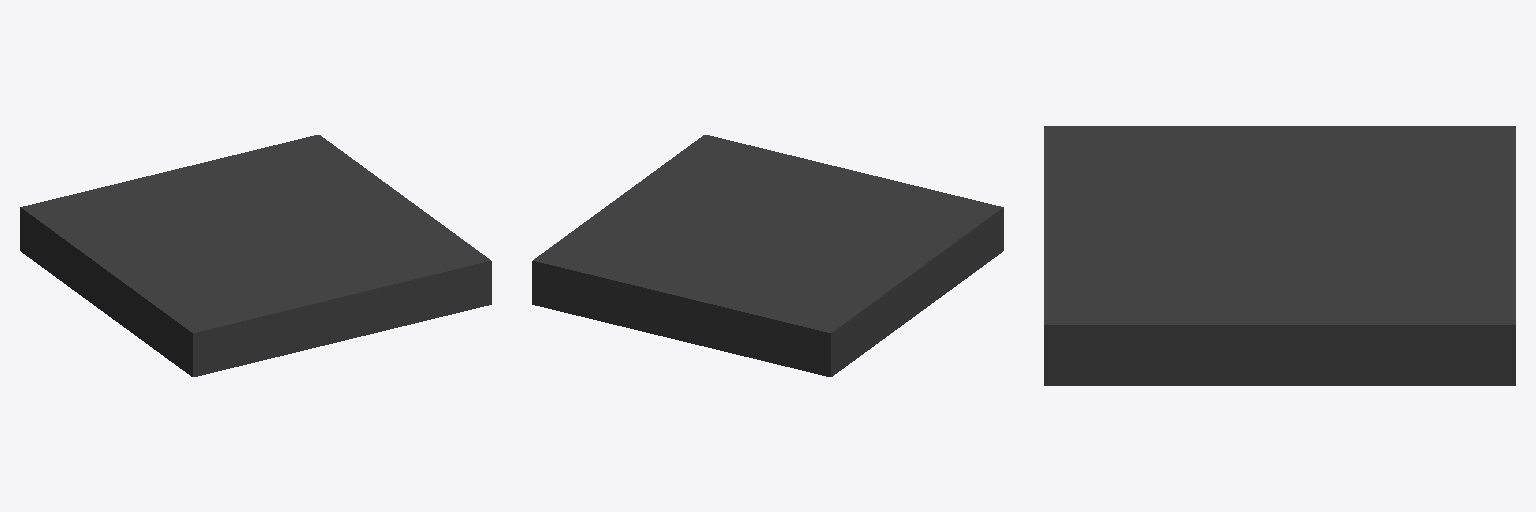
robot.urdf — x500:
<?xml version="1.0" ?>

<!-- Holybro PX4 Development Kit X500 V2 for gym-pybullet-drones, in the format of the package's
     assets/cf2x.urdf (BaseAviary._parseURDFParameters reads the <properties> attributes, the base
     link's mass and inertia, and the base link's collision cylinder; the four propeller links carry
     the thrust points). Loaded by sim/run_leanfc.py (LeanfcAviary), not installed in the package.

     Sources: PX4-gazebo-models x500_base/model.sdf and x500/model.sdf.
       mass       base_link 2.0 + rotor_0..3 at 0.016076923076923075 each = 2.0643076923076924 kg
                  (one rigid body here: the rotors' mass is lumped into the base)
       inertia    base_link ixx = iyy = 0.02166666666666667, izz = 0.04000000000000001 kg m^2
                  (the rotors' share, about 0.002 kg m^2 per axis at 0.174 m, is left out, as in the
                  controller's parameter file)
       rotors     poses (+-0.174, +-0.174, 0.06) m FLU, arm = 0.174 sqrt 2 = 0.24607 m;
                  rotor_0 front right ccw, rotor_1 rear left ccw, rotor_2 front left cw,
                  rotor_3 rear right cw (gz MulticopterMotorModel turningDirection)
       thrust     motorConstant 8.54858e-06 N/(rad/s)^2, maxRotVelocity 1000 rad/s
       yaw torque momentConstant 0.016 m x thrust
     Package units: kf in N/RPM^2 and km in N m/RPM^2:
       kf = 8.54858e-06 (2 pi / 60)^2 = 9.37456697678494e-08,  km = 0.016 kf = 1.4999307162855904e-09.
     thrust2weight = 4 x 8.54858 N / (2.0643076923076924 kg x 9.80665 m/s^2) = 1.689113625148385, so that
       the package's MAX_RPM = sqrt(thrust2weight m g / (4 kf)) = 9549.2966 RPM = 1000 rad/s with the
       harness's gravity 9.80665, and MAX_THRUST / 4 = 8.54858 N per motor.
     Propeller links: in cf2x.urdf's order and spin (prop0 front right CCW, prop1 rear right CW,
       prop2 rear left CCW, prop3 front left CW; the package's _physics sums the drag torques as
       -t0 + t1 - t2 + t3, so links 0 and 2 must be the CCW ones). PX4's rotor_0..3 are links 0, 2, 3, 1,
       which is cpp2lean's SLOT_TO_SIM = [0, 2, 3, 1] for motors 1..4. The thrust is applied at each
       link's inertial origin (PyBullet's link frame), 0.06 m above the base as in the SDF.
     Collision: one cylinder (the package's parser requires a cylinder) of radius 0.25 m (wheelbase
       0.49 m) and length 0.22 m centered 0.09 m below the base origin: from 0.20 m below (the SDF's
       landing gear reaches 0.227 m below) to 0.02 m above the base. At 1 m altitude its bottom is 0.80 m
       above the ground.
     Not modeled: rotor drag (rotorDragCoefficient 8.06428e-05 N/(m/s)/(rad/s), the same form as the
       package's drag_coeff_xy, which Physics.PYB does not use; set here for Physics.PYB_DRAG), the
       rolling moment, ground effect and downwash (no X500 data: coefficients 0), and the motor time
       constants 0.0125 s up and 0.025 s down, which the harness applies as a thrust lag.
     max_speed_kmh 43.2 is PX4's MPC_XY_VEL_MAX default 12 m/s (not used by Physics.PYB). prop_radius
       0.1396 m is half the SDF's rotor collision box (0.2792 m). -->

<robot name="x500">

  <properties arm="0.24607315985291853" kf="9.37456697678494e-08" km="1.4999307162855904e-09" thrust2weight="1.689113625148385" max_speed_kmh="43.2" gnd_eff_coeff="0" prop_radius="0.1396" drag_coeff_xy="8.06428e-05" drag_coeff_z="0" dw_coeff_1="0" dw_coeff_2="0" dw_coeff_3="0" />

  <link name="base_link">

    <inertial>
      <origin rpy="0 0 0" xyz="0 0 0"/>
      <mass value="2.0643076923076924"/>
      <inertia ixx="0.02166666666666667" ixy="0.0" ixz="0.0" iyy="0.02166666666666667" iyz="0.0" izz="0.04000000000000001"/>
    </inertial>

    <visual>
      <origin rpy="0 0 0" xyz="0 0 0.007"/>
      <geometry>
        <box size="0.35355339059327373 0.35355339059327373 0.05"/>
      </geometry>
      <material name="grey">
        <color rgba=".3 .3 .3 1"/>
      </material>
    </visual>

    <collision>
      <origin rpy="0 0 0" xyz="0 0 -0.09"/>
      <geometry>
        <cylinder radius="0.25" length="0.22"/>
      </geometry>
    </collision>

  </link>

  <link name="prop0_link">
    <inertial>
      <origin rpy="0 0 0" xyz="0.174 -0.174 0.06"/>
      <mass value="0"/>
      <inertia ixx="0" ixy="0" ixz="0" iyy="0" iyz="0" izz="0"/>
    </inertial>
  </link>
  <joint name="prop0_joint" type="fixed">
    <parent link="base_link"/>
    <child link="prop0_link"/>
  </joint>

  <link name="prop1_link">
    <inertial>
      <origin rpy="0 0 0" xyz="-0.174 -0.174 0.06"/>
      <mass value="0"/>
      <inertia ixx="0" ixy="0" ixz="0" iyy="0" iyz="0" izz="0"/>
    </inertial>
  </link>
  <joint name="prop1_joint" type="fixed">
    <parent link="base_link"/>
    <child link="prop1_link"/>
  </joint>

  <link name="prop2_link">
    <inertial>
      <origin rpy="0 0 0" xyz="-0.174 0.174 0.06"/>
      <mass value="0"/>
      <inertia ixx="0" ixy="0" ixz="0" iyy="0" iyz="0" izz="0"/>
    </inertial>
  </link>
  <joint name="prop2_joint" type="fixed">
    <parent link="base_link"/>
    <child link="prop2_link"/>
  </joint>

  <link name="prop3_link">
    <inertial>
      <origin rpy="0 0 0" xyz="0.174 0.174 0.06"/>
      <mass value="0"/>
      <inertia ixx="0" ixy="0" ixz="0" iyy="0" iyz="0" izz="0"/>
    </inertial>
  </link>
  <joint name="prop3_joint" type="fixed">
    <parent link="base_link"/>
    <child link="prop3_link"/>
  </joint>

  <link name="center_of_mass_link">
    <inertial>
      <origin rpy="0 0 0" xyz="0 0 0"/>
      <mass value="0"/>
      <inertia ixx="0" ixy="0" ixz="0" iyy="0" iyz="0" izz="0"/>
    </inertial>
  </link>
  <joint name="center_of_mass_joint" type="fixed">
    <parent link="base_link"/>
    <child link="center_of_mass_link"/>
  </joint>

</robot>

--- What the picture shows (computed from the rendered views, not written in the file) ---
The picture shows the robot from 3 angles, left to right: view 1: azimuth 30°, elevation 25°; view 2: azimuth 150°, elevation 25°; view 3: azimuth 270°, elevation 25°; orthographic projection.
Robot: x500 — 6 links, 5 joints (5 fixed); root link base_link; default pose: all joints at 0.
Visible links, largest first — view 1: base_link; view 2: base_link; view 3: base_link.
Link boxes in pixels (bbox=[...]): base_link: bbox=[20, 135, 491, 376]; base_link: bbox=[532, 135, 1003, 376]; base_link: bbox=[1044, 126, 1515, 385].
Bounding box of the posed robot: 0.3536 × 0.3536 × 0.05 m (x, y, z).
Geometry: primitives only (box / cylinder / sphere), no mesh files.
